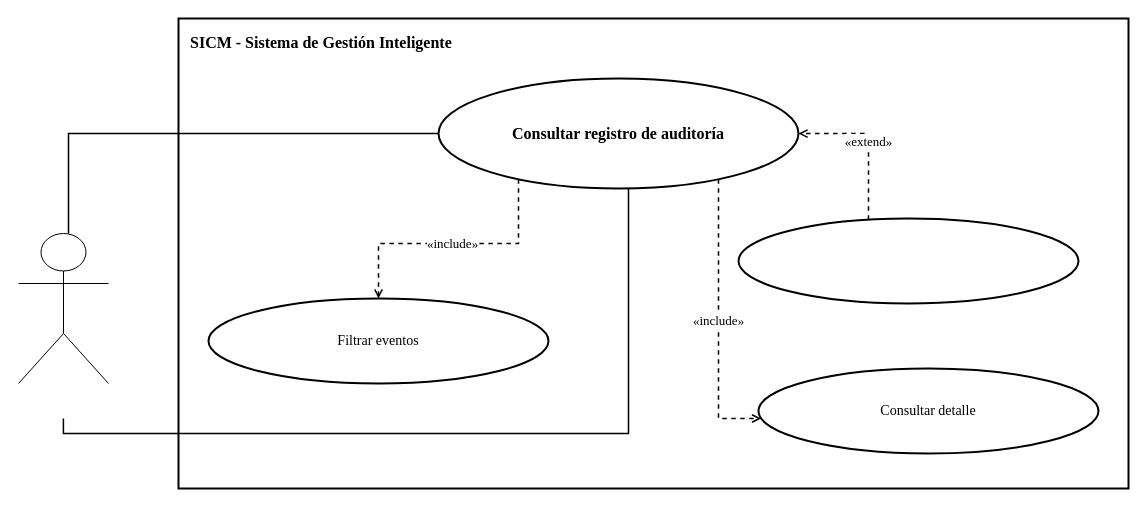
The diagram is 1147 pixels wide and 506 high, and some of its shapes have lost their labels. The shapes that lost their labels are listed below. From the top down, each one's centre as x and y in pixels, then its label:
At point 908,260: "Exportar registro".
At point 63,308: "Coordinador(a)".
